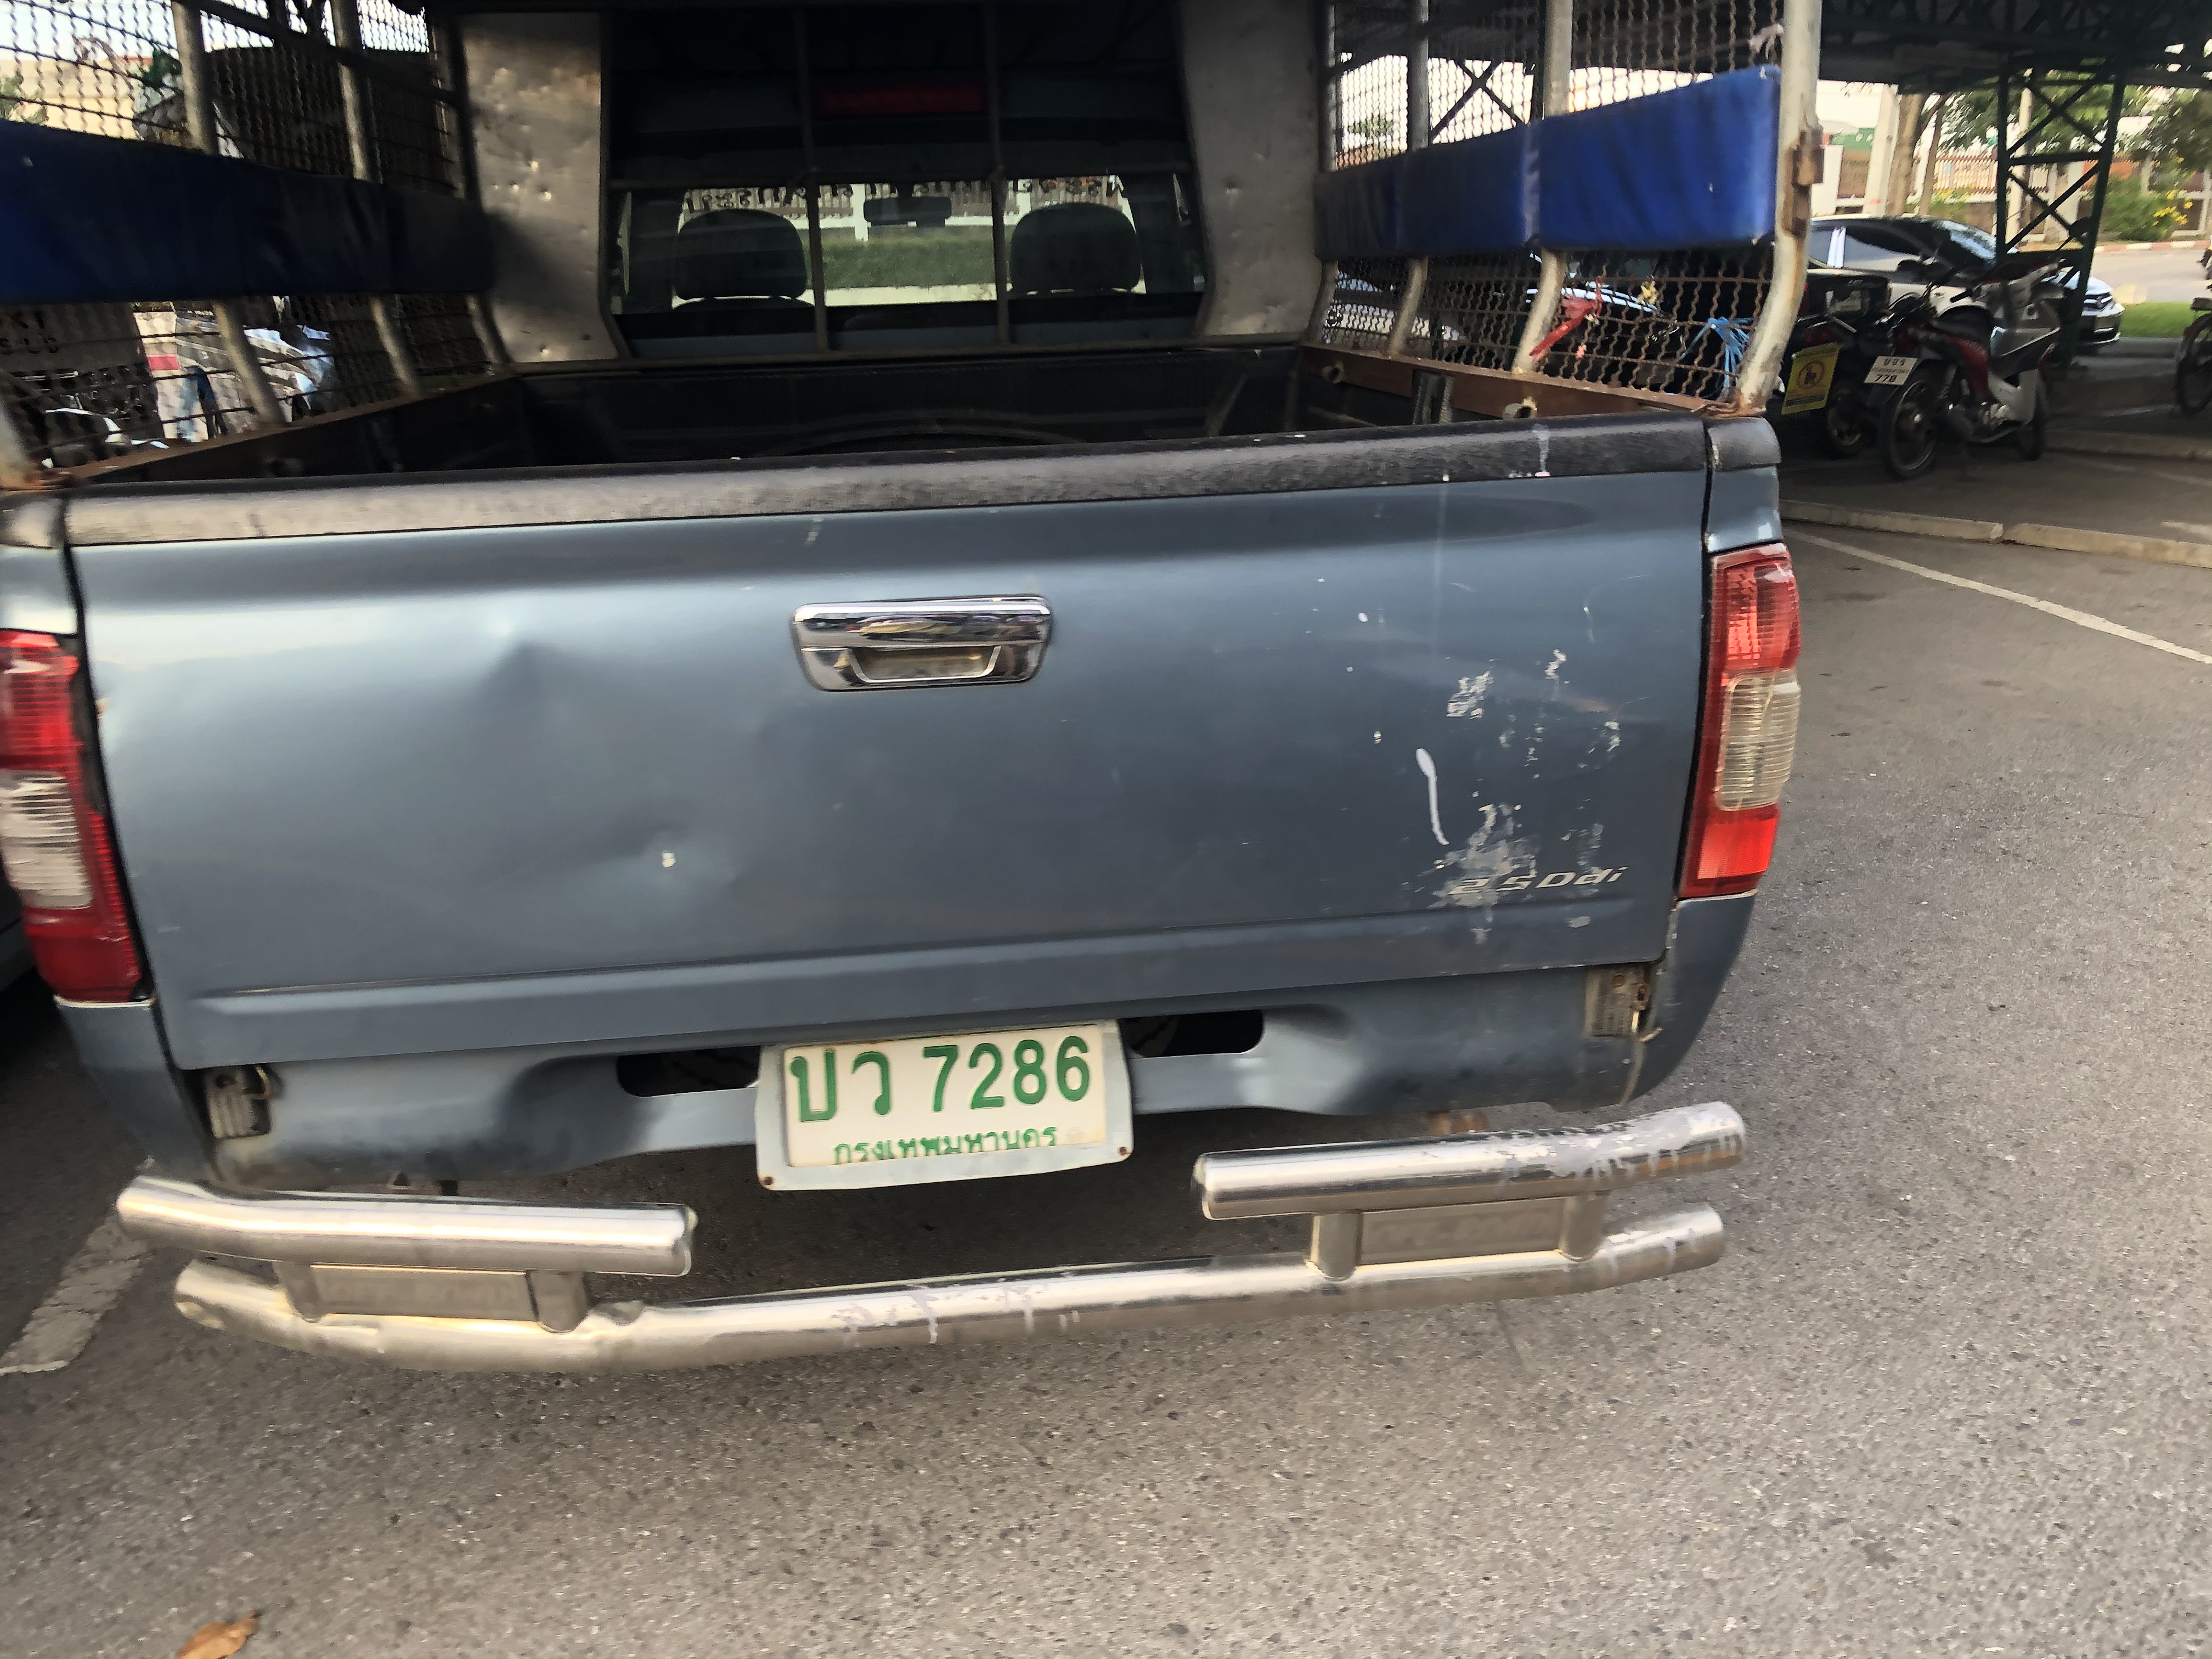in: (786, 1030, 1104, 1164)
out: (749, 1021, 1139, 1194)
